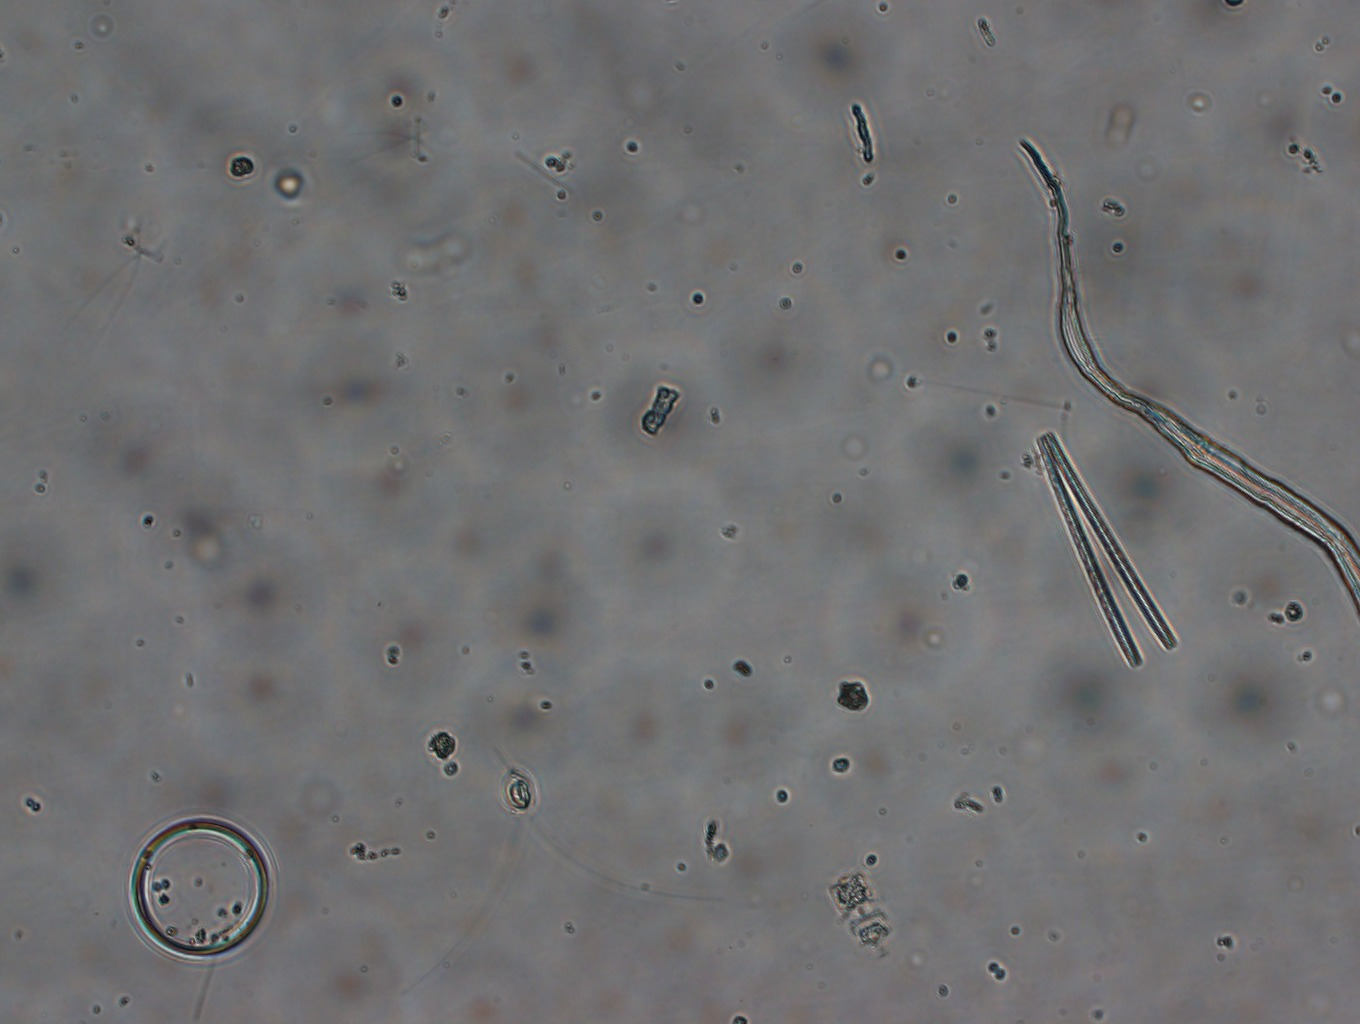coscinodiscus: (126, 808, 273, 959)
thalassionema frauenfeldii: (1029, 430, 1184, 678)
